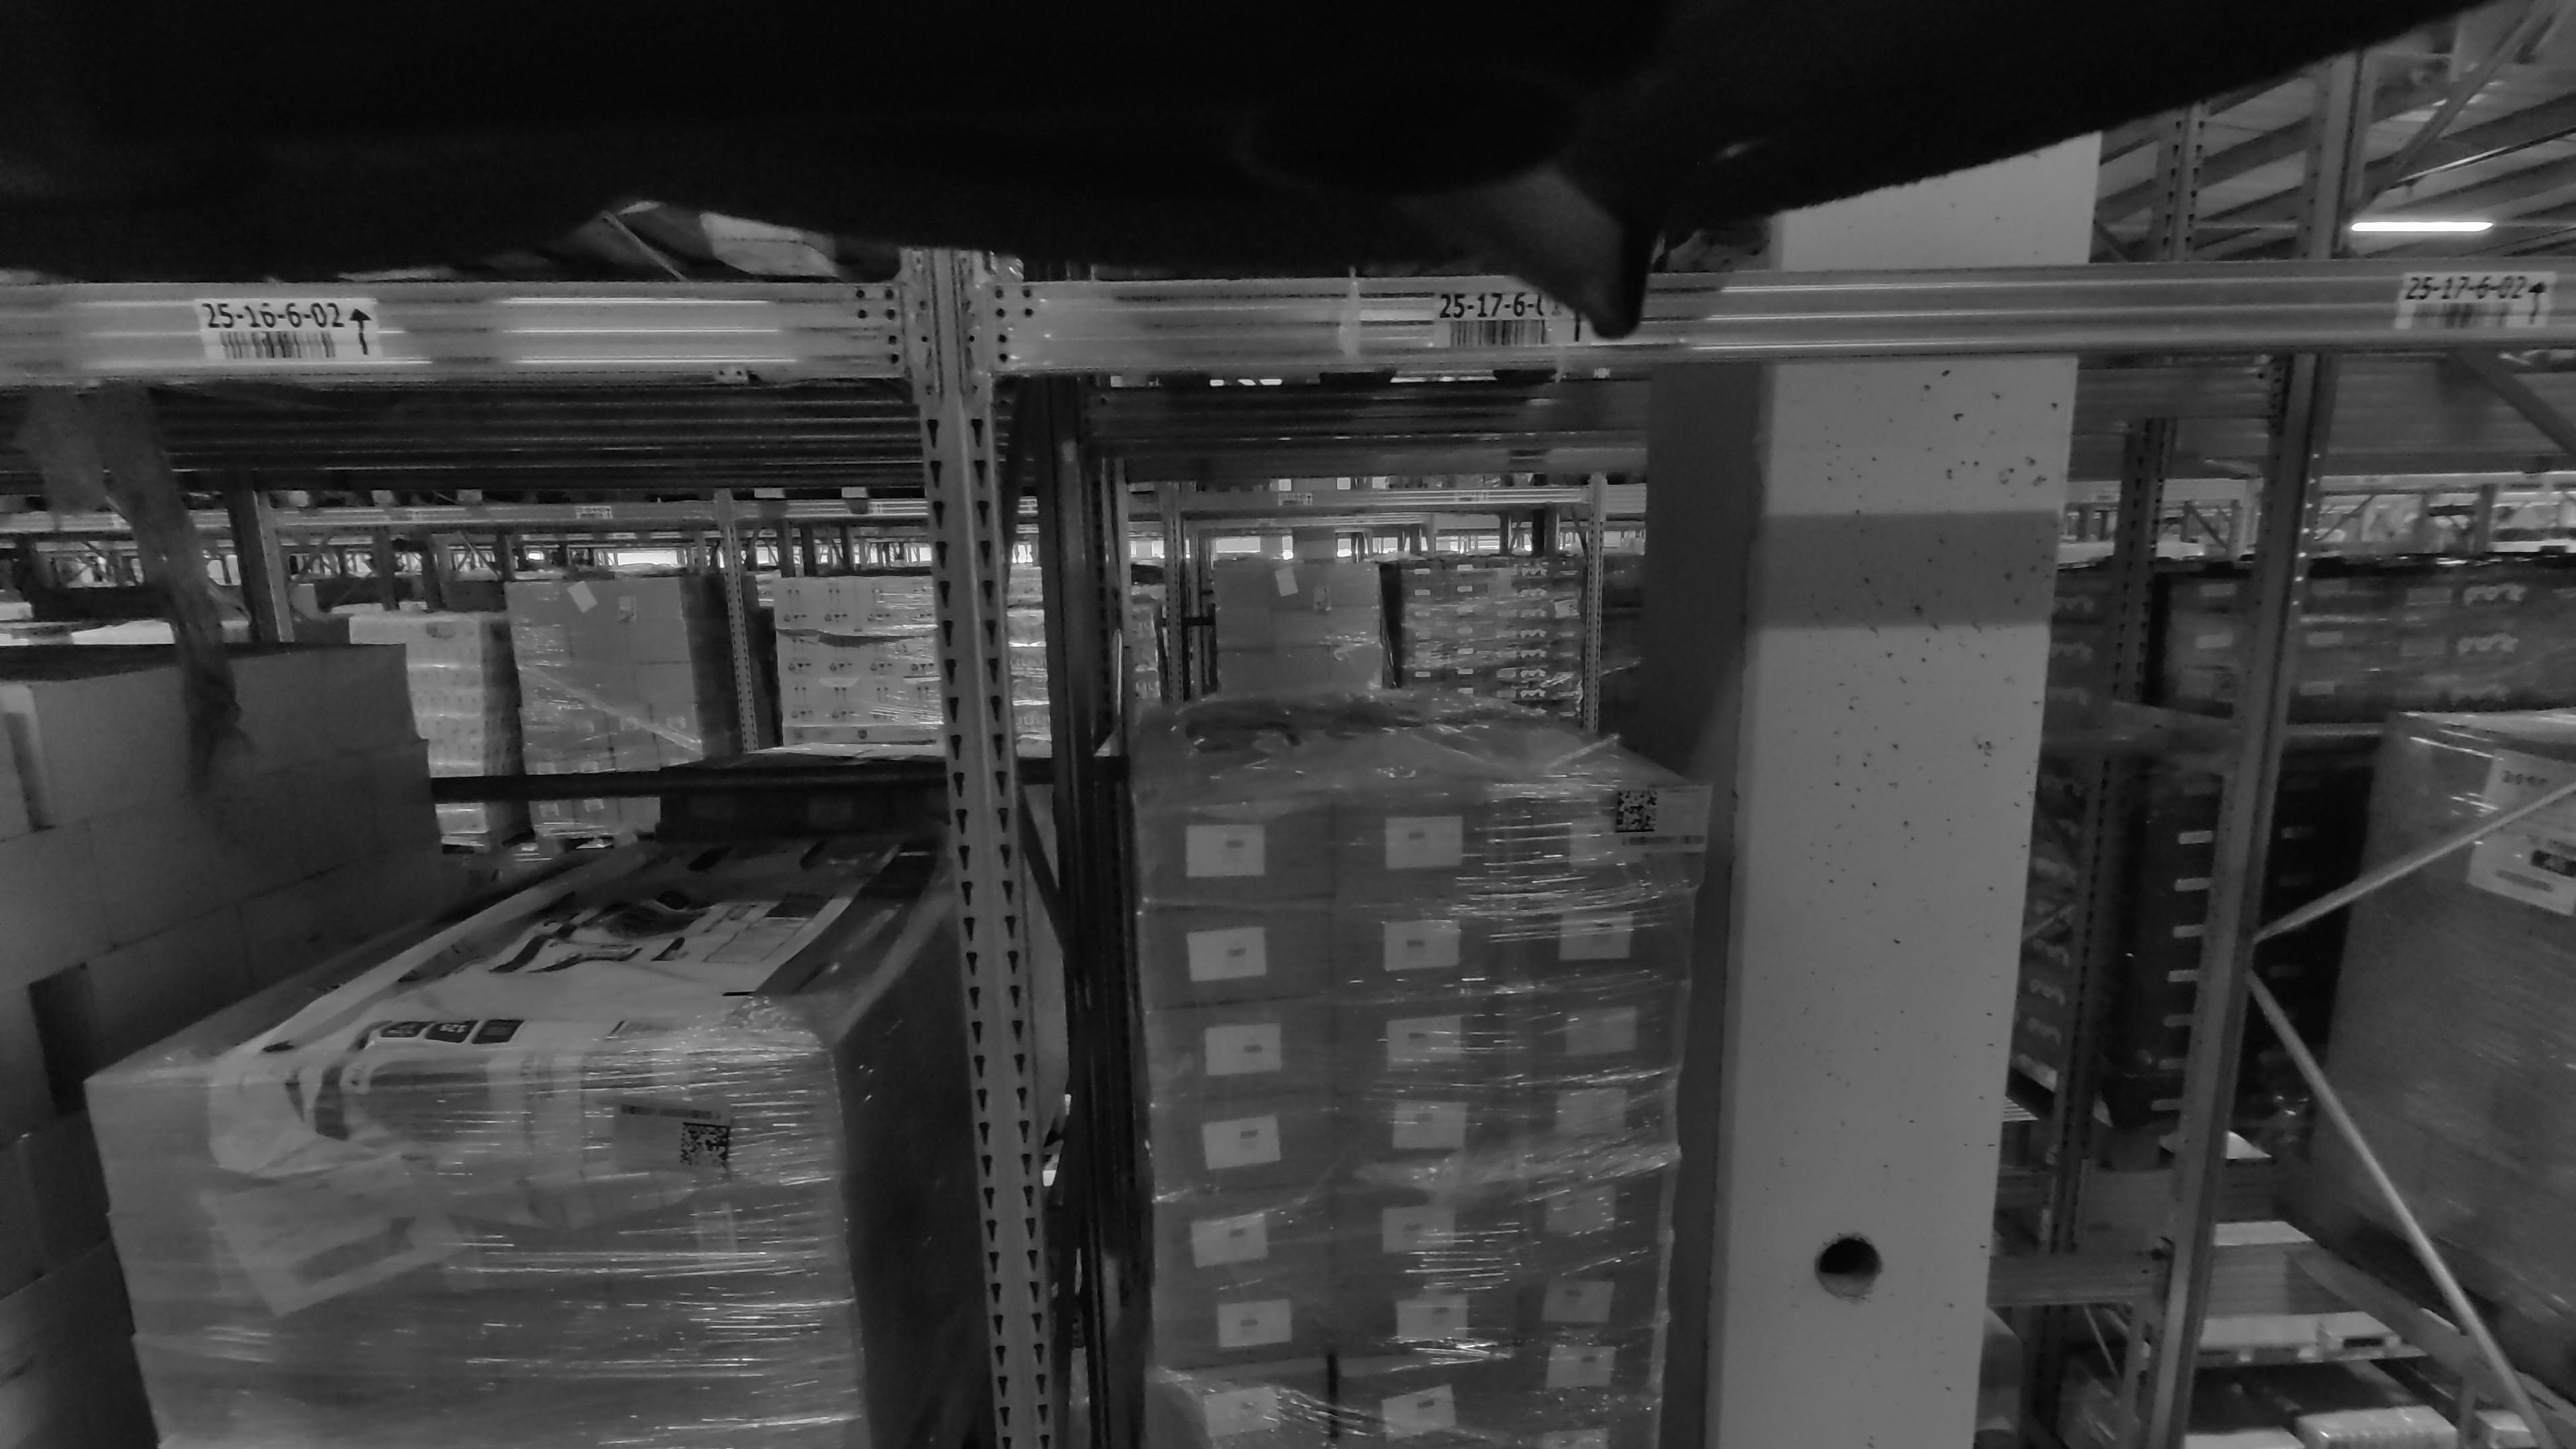empty-shelf: (2056, 41, 2576, 290)
